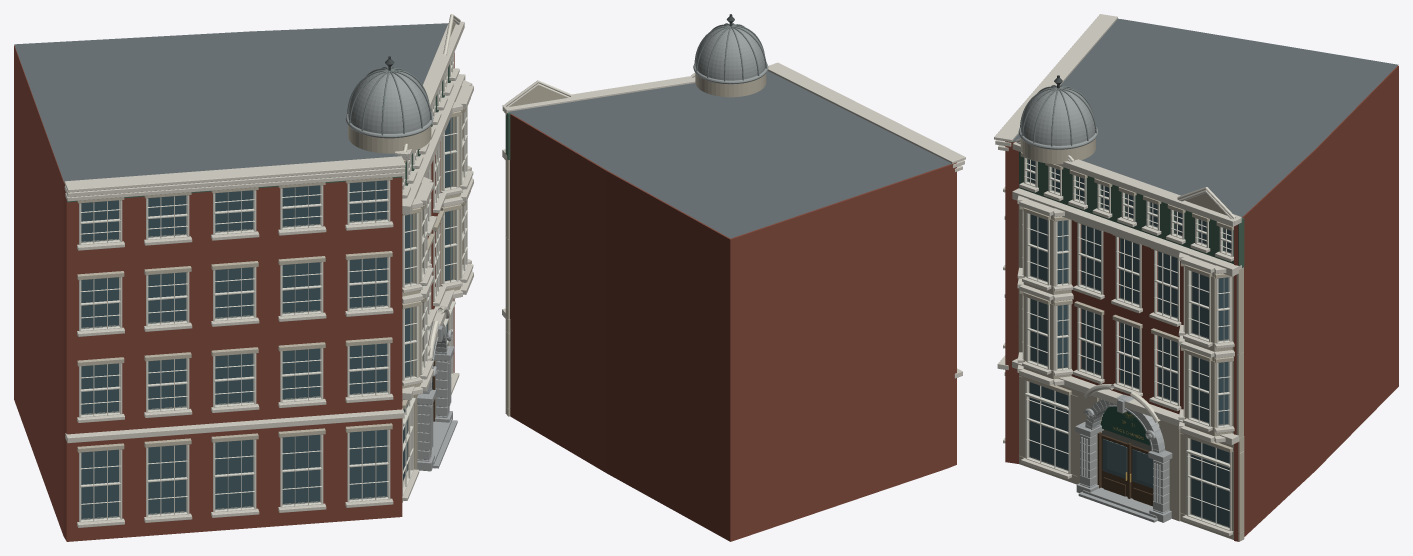
Rendered from kgs-exterior-2c68e3e08573.glb.
3 views of the same model, side by side, from view 1: azimuth 30°, elevation 25°; view 2: azimuth 150°, elevation 25°; view 3: azimuth 270°, elevation 25° (orthographic). The views are drawn at different scales.
Parts seen in each view (by area): view 1: KGS.001; view 2: KGS.001; view 3: KGS.001.
Boxes of the visible parts, x1=… form: KGS.001: x1=14, y1=14, x2=473, y2=541; KGS.001: x1=502, y1=14, x2=965, y2=541; KGS.001: x1=994, y1=14, x2=1398, y2=541.
Size of the model in its own units: 21.13 by 18.66 by 17.38.
